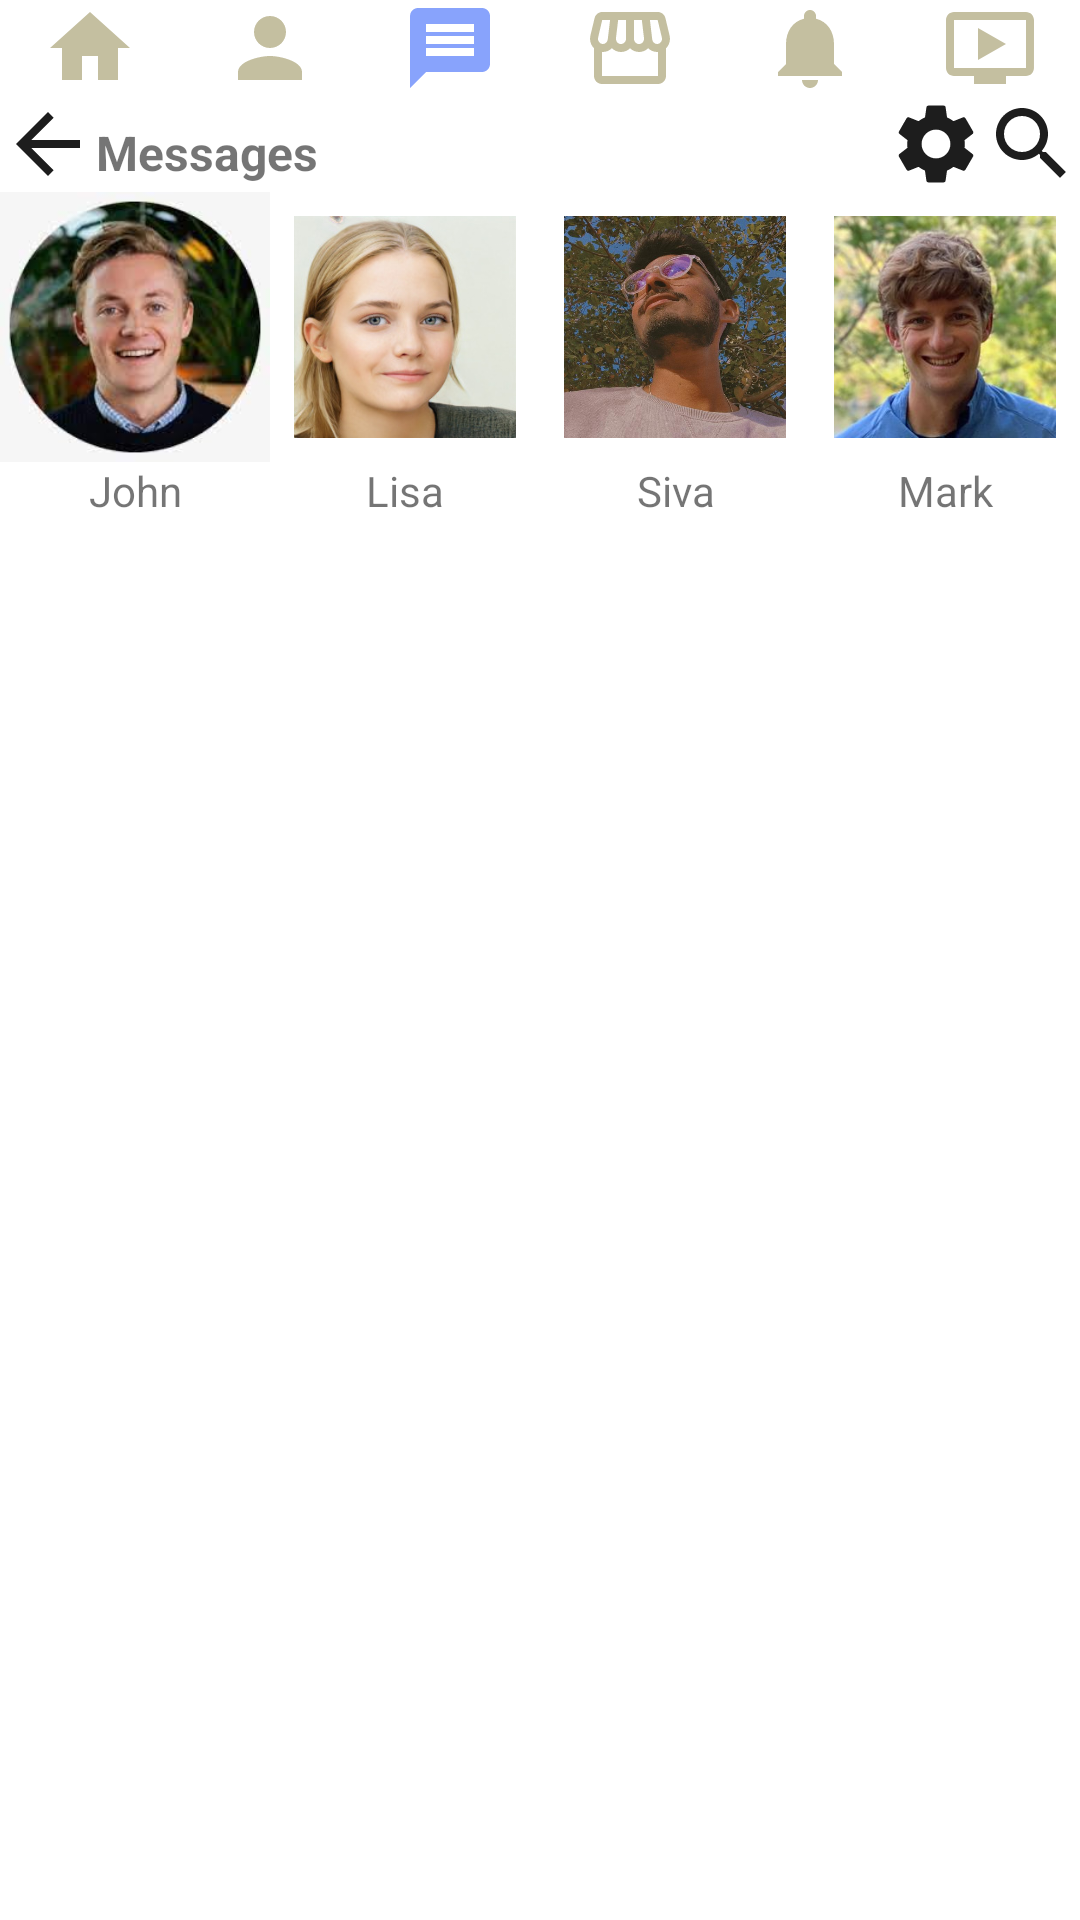

Icons on this 1080w x 1920h Android screen, each with its box as [x1=x1, y1=y1, x2=x2, y2=y2]:
arrow back: [x1=16, y1=112, x2=80, y2=176]
home: [x1=50, y1=12, x2=130, y2=80]
notifications: [x1=778, y1=10, x2=842, y2=88]
ondemand video: [x1=946, y1=12, x2=1034, y2=84]
person: [x1=238, y1=16, x2=302, y2=80]
search: [x1=996, y1=108, x2=1066, y2=178]
settings: [x1=898, y1=105, x2=974, y2=183]
storefront: [x1=590, y1=12, x2=670, y2=84]
